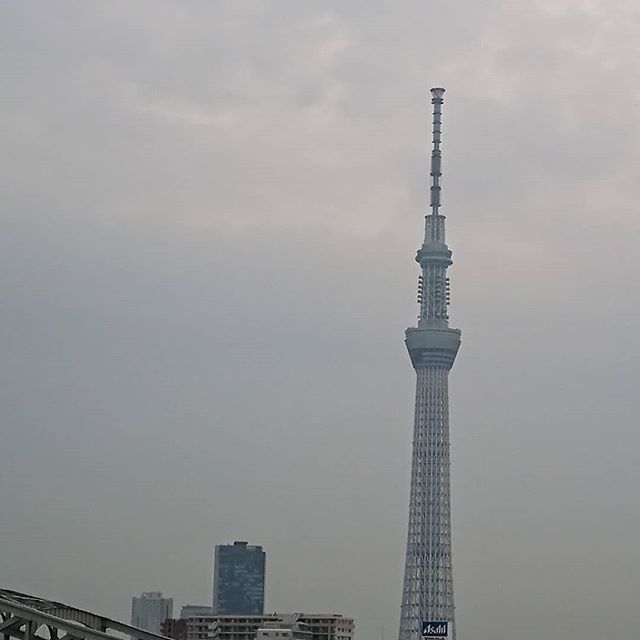building: (387, 61, 481, 638), (210, 535, 267, 622), (169, 615, 355, 640), (118, 582, 175, 640)
sky: (31, 1, 640, 605)
